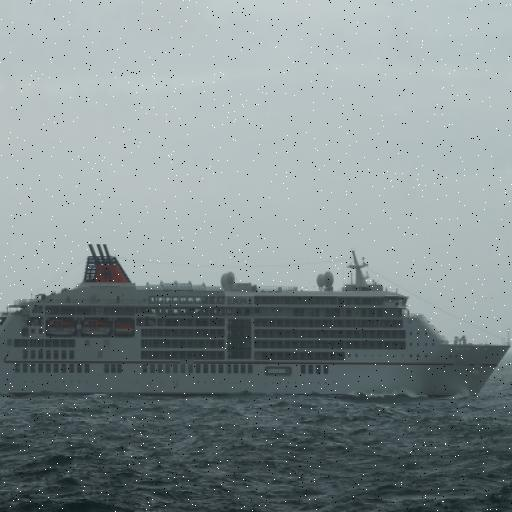cruises: (1, 237, 512, 404)
